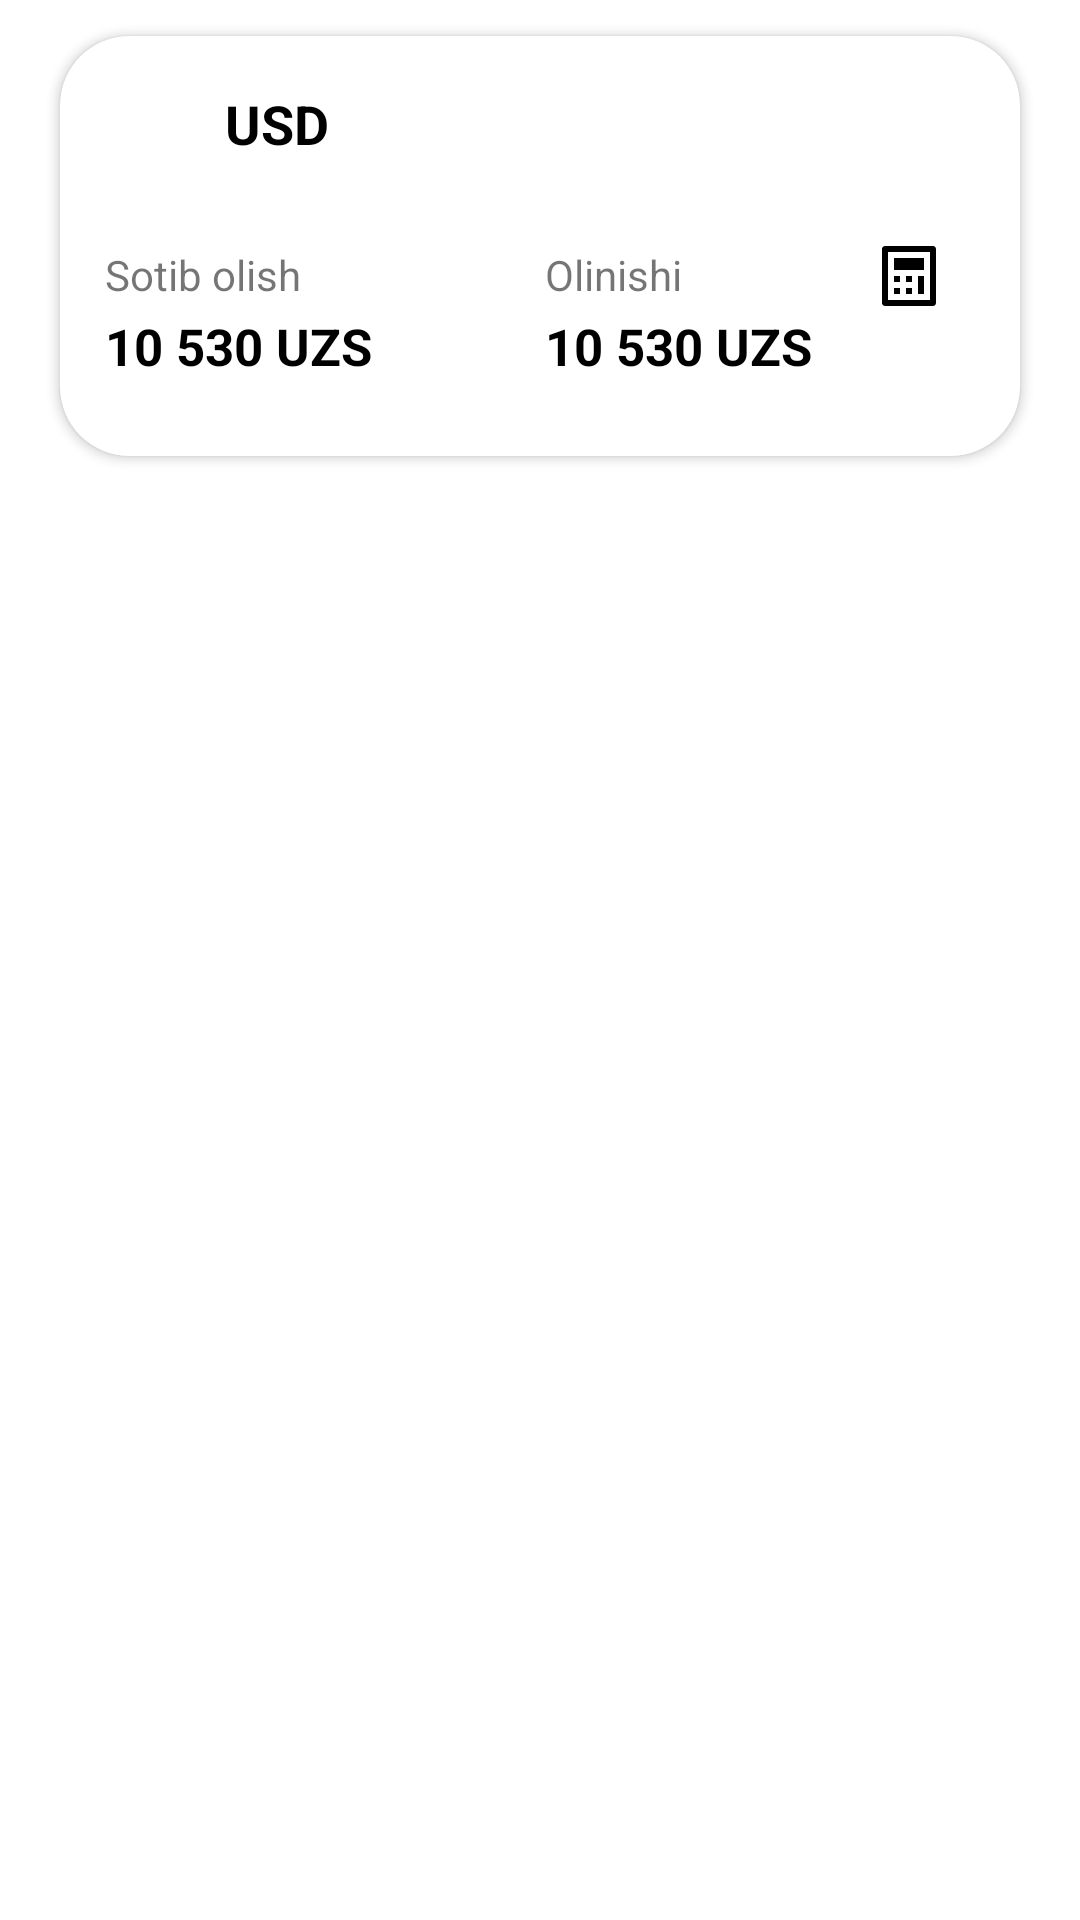

Icon bounding boxes for this 1080px×1920px phone screenshot, format rect(x1, y1, x2, y2):
calculator: rect(882, 246, 936, 306)
